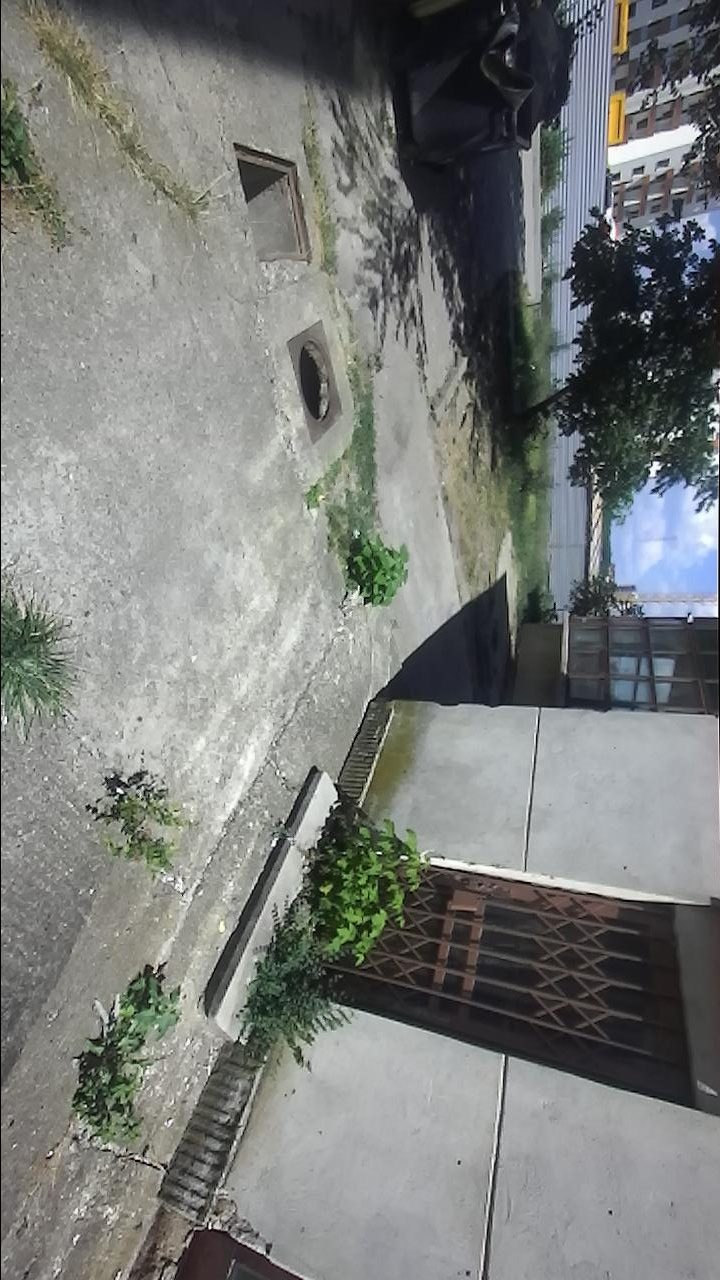drain: (228, 138, 314, 266), (296, 333, 336, 426)
